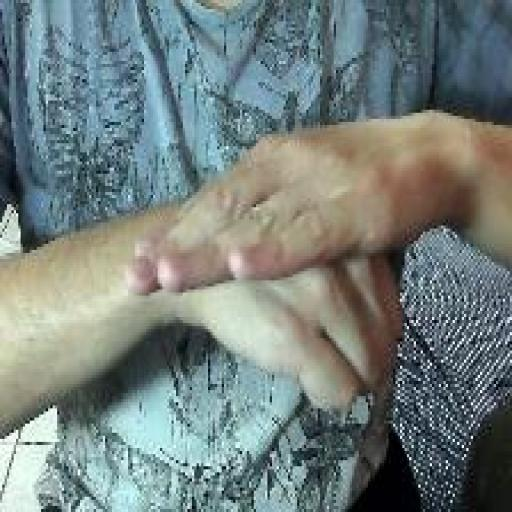Inu -dog-: (120, 127, 413, 419)
